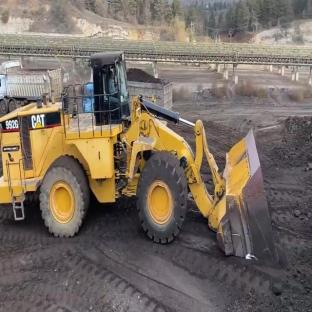ExcavationMachinery: (1, 50, 288, 271)
